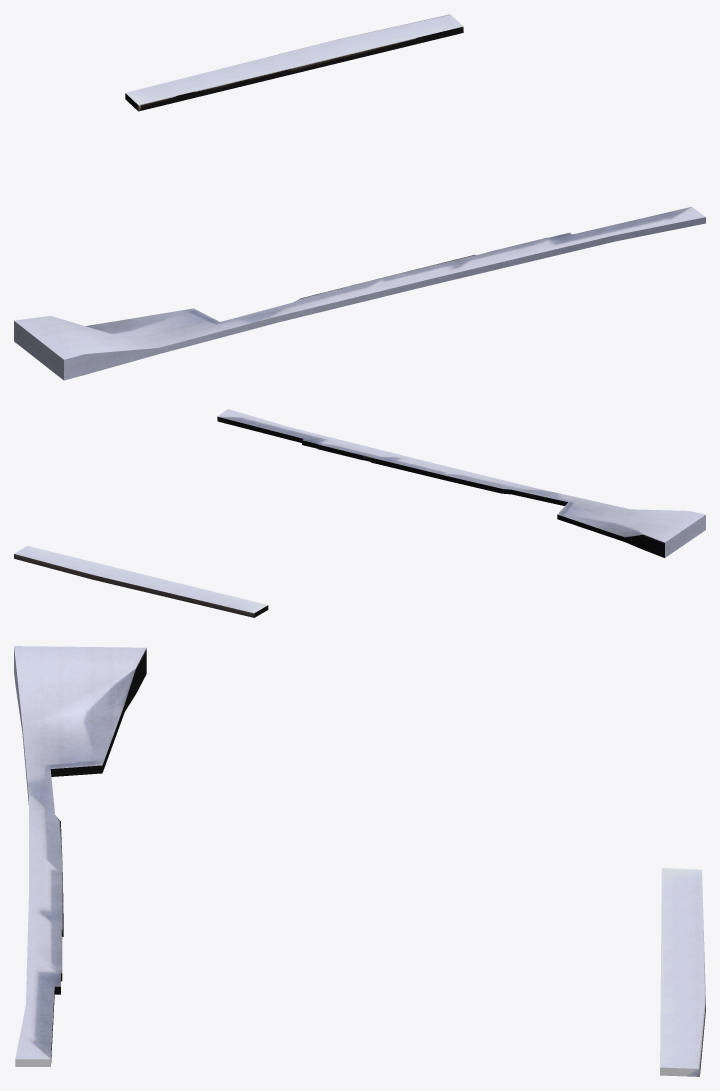
File: Ground_Additional.fbx
3 renders of one model, top to bottom at view 1: azimuth 30°, elevation 25°; view 2: azimuth 150°, elevation 25°; view 3: azimuth 270°, elevation 25°, orthographic. The views are drawn at different scales.
Visible parts, largest first — view 1: Ground_Additional; view 2: Ground_Additional; view 3: Ground_Additional.
Part boxes in pixels (box(x1,y1,x2,y2)): Ground_Additional: box(14, 14, 705, 380); Ground_Additional: box(14, 409, 705, 617); Ground_Additional: box(14, 646, 705, 1076).
Size of the model in its own units: 304 by 9.15 by 220.
Materials: 1 (1 with a texture image).
